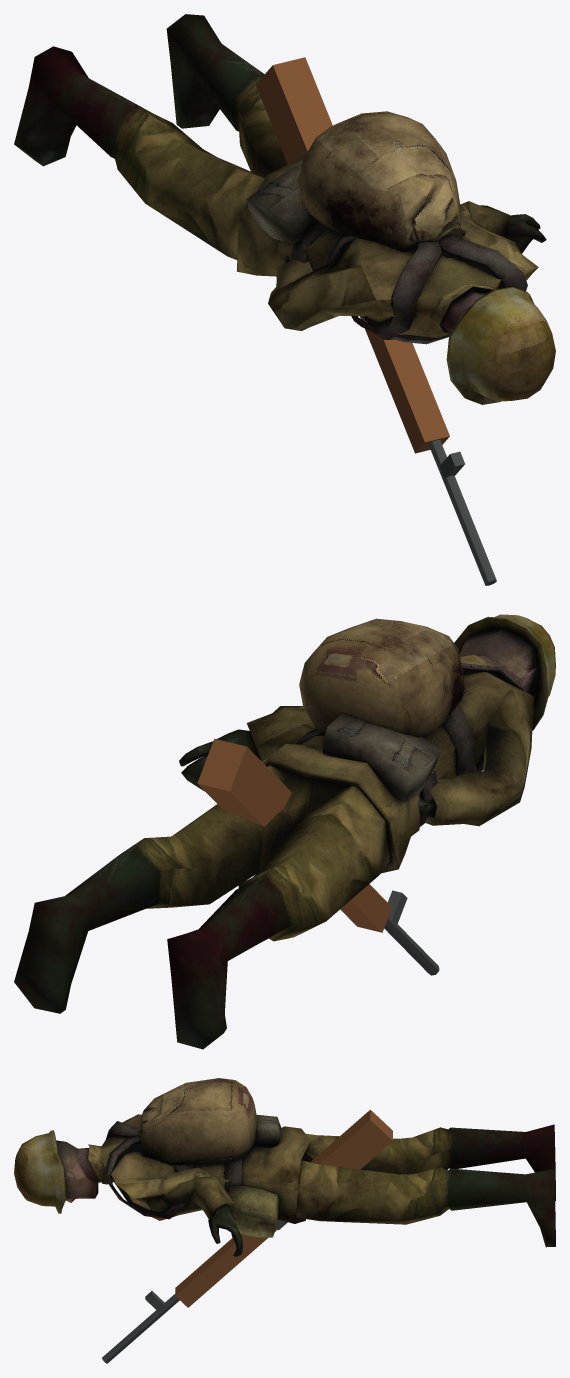
The model's file is soviet_ww2_soldier_death_03.glb.
3 renders of one model, top to bottom at view 1: azimuth 30°, elevation 25°; view 2: azimuth 150°, elevation 25°; view 3: azimuth 270°, elevation 25°, orthographic. The views are drawn at different scales.
Visible parts, largest first — view 1: final_Static, SovietRifle_Generated; view 2: final_Static, SovietRifle_Generated; view 3: final_Static, SovietRifle_Generated.
Boxes of the visible parts, left/top/right/bottom form: final_Static: left=14, top=14, right=555, bottom=404; SovietRifle_Generated: left=256, top=57, right=496, bottom=585; final_Static: left=14, top=614, right=555, bottom=1049; SovietRifle_Generated: left=197, top=738, right=439, bottom=975; final_Static: left=14, top=1078, right=555, bottom=1256; SovietRifle_Generated: left=102, top=1109, right=392, bottom=1363.
Size of the model in its own units: 0.7528 by 0.9655 by 1.76.
3 materials, 1 textured.
